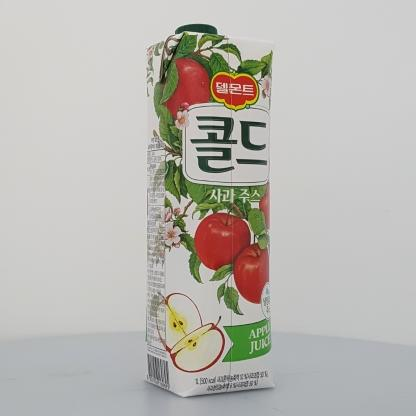------------: (143, 24, 275, 397)
